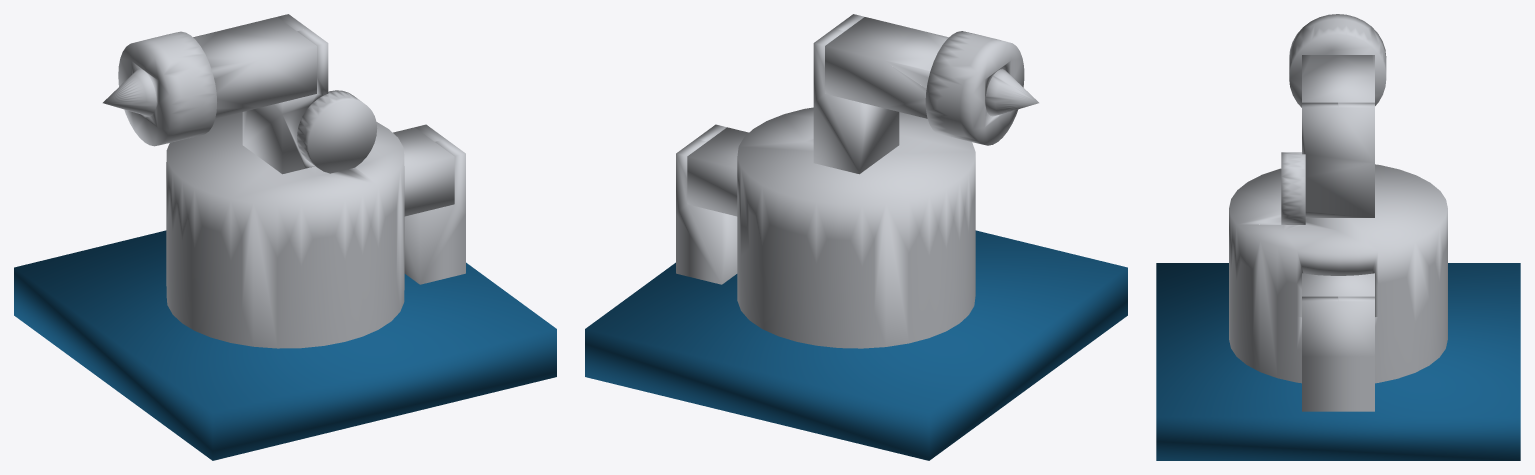
File: w_torch.glb
The picture shows the model from 3 angles, left to right: view 1: azimuth 30°, elevation 25°; view 2: azimuth 150°, elevation 25°; view 3: azimuth 270°, elevation 25°; orthographic projection. The views are drawn at different scales.
Visible parts, largest first — view 1: figura, basetta; view 2: figura, basetta; view 3: figura, basetta.
Part boxes in pixels (x1,y1,x2,y2): figura: (103,14,465,348); basetta: (14,230,556,460); figura: (676,14,1038,348); basetta: (585,230,1127,460); figura: (1229,14,1447,411); basetta: (1156,263,1520,460).
Size of the model in its own units: 0.0155 by 0.0139 by 0.015.
